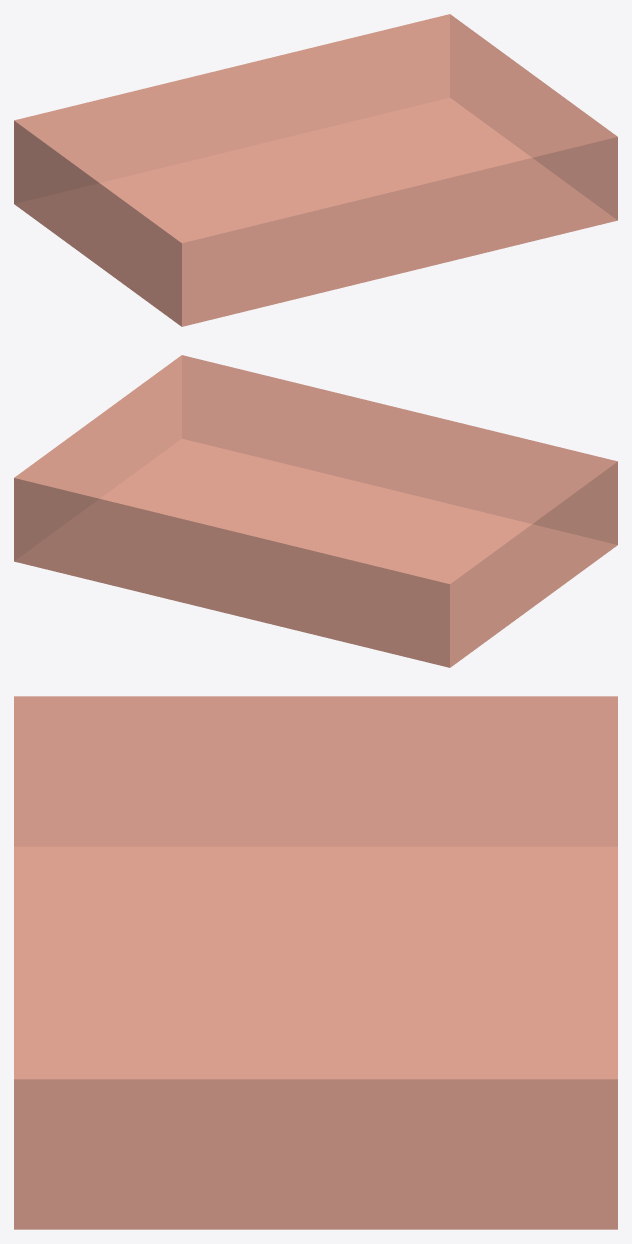
The model's file is burruss-geo.glb.
The picture shows the model from 3 angles, top to bottom: view 1: azimuth 30°, elevation 25°; view 2: azimuth 150°, elevation 25°; view 3: azimuth 270°, elevation 25°; orthographic projection. The views are drawn at different scales.
Parts seen in each view (by area): view 1: Shape@/gl_ifc_marker/t_ifc/Shape[1]; view 2: Shape@/gl_ifc_marker/t_ifc/Shape[1]; view 3: Shape@/gl_ifc_marker/t_ifc/Shape[1].
Part boxes in pixels (x1,y1,x2,y2): Shape@/gl_ifc_marker/t_ifc/Shape[1]: [14, 14, 617, 326]; Shape@/gl_ifc_marker/t_ifc/Shape[1]: [14, 355, 617, 667]; Shape@/gl_ifc_marker/t_ifc/Shape[1]: [14, 696, 617, 1229].
Size of the model in its own units: 24 by 4.4 by 16.
